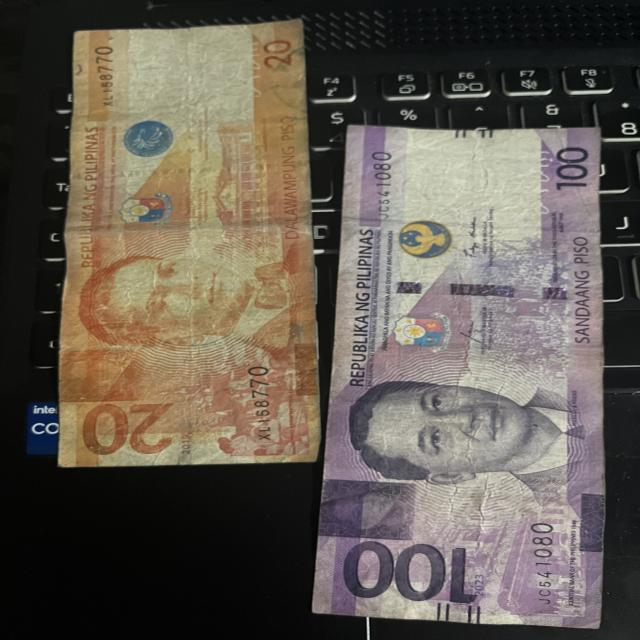concealed_value: (322, 476, 424, 542), (60, 345, 154, 402)
security_thread: (340, 275, 603, 304)
serial_number: (513, 513, 562, 612), (242, 355, 278, 449), (364, 143, 403, 227), (82, 38, 126, 111)
value: (336, 538, 481, 612), (76, 398, 179, 462)
